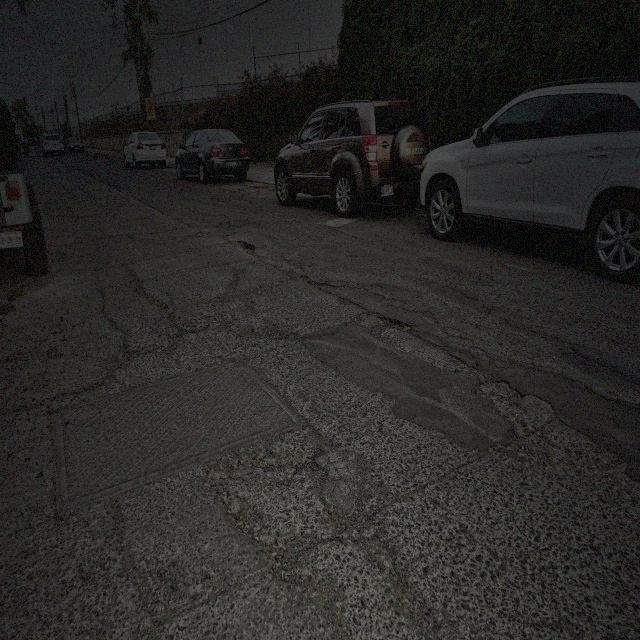pothole: (478, 368, 558, 435), (273, 420, 341, 477), (160, 304, 184, 354), (375, 308, 411, 334), (225, 235, 257, 254)
